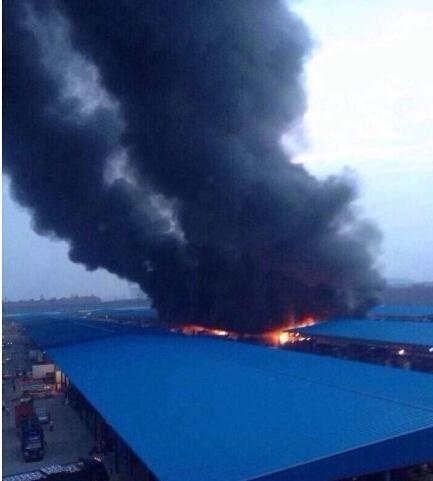fire: (268, 315, 315, 345)
